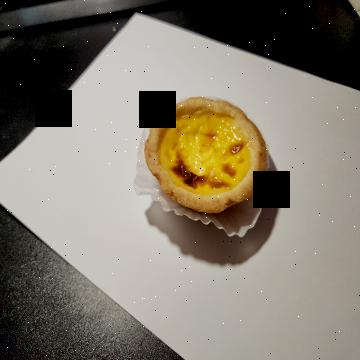EggTart: (144, 95, 268, 213)
